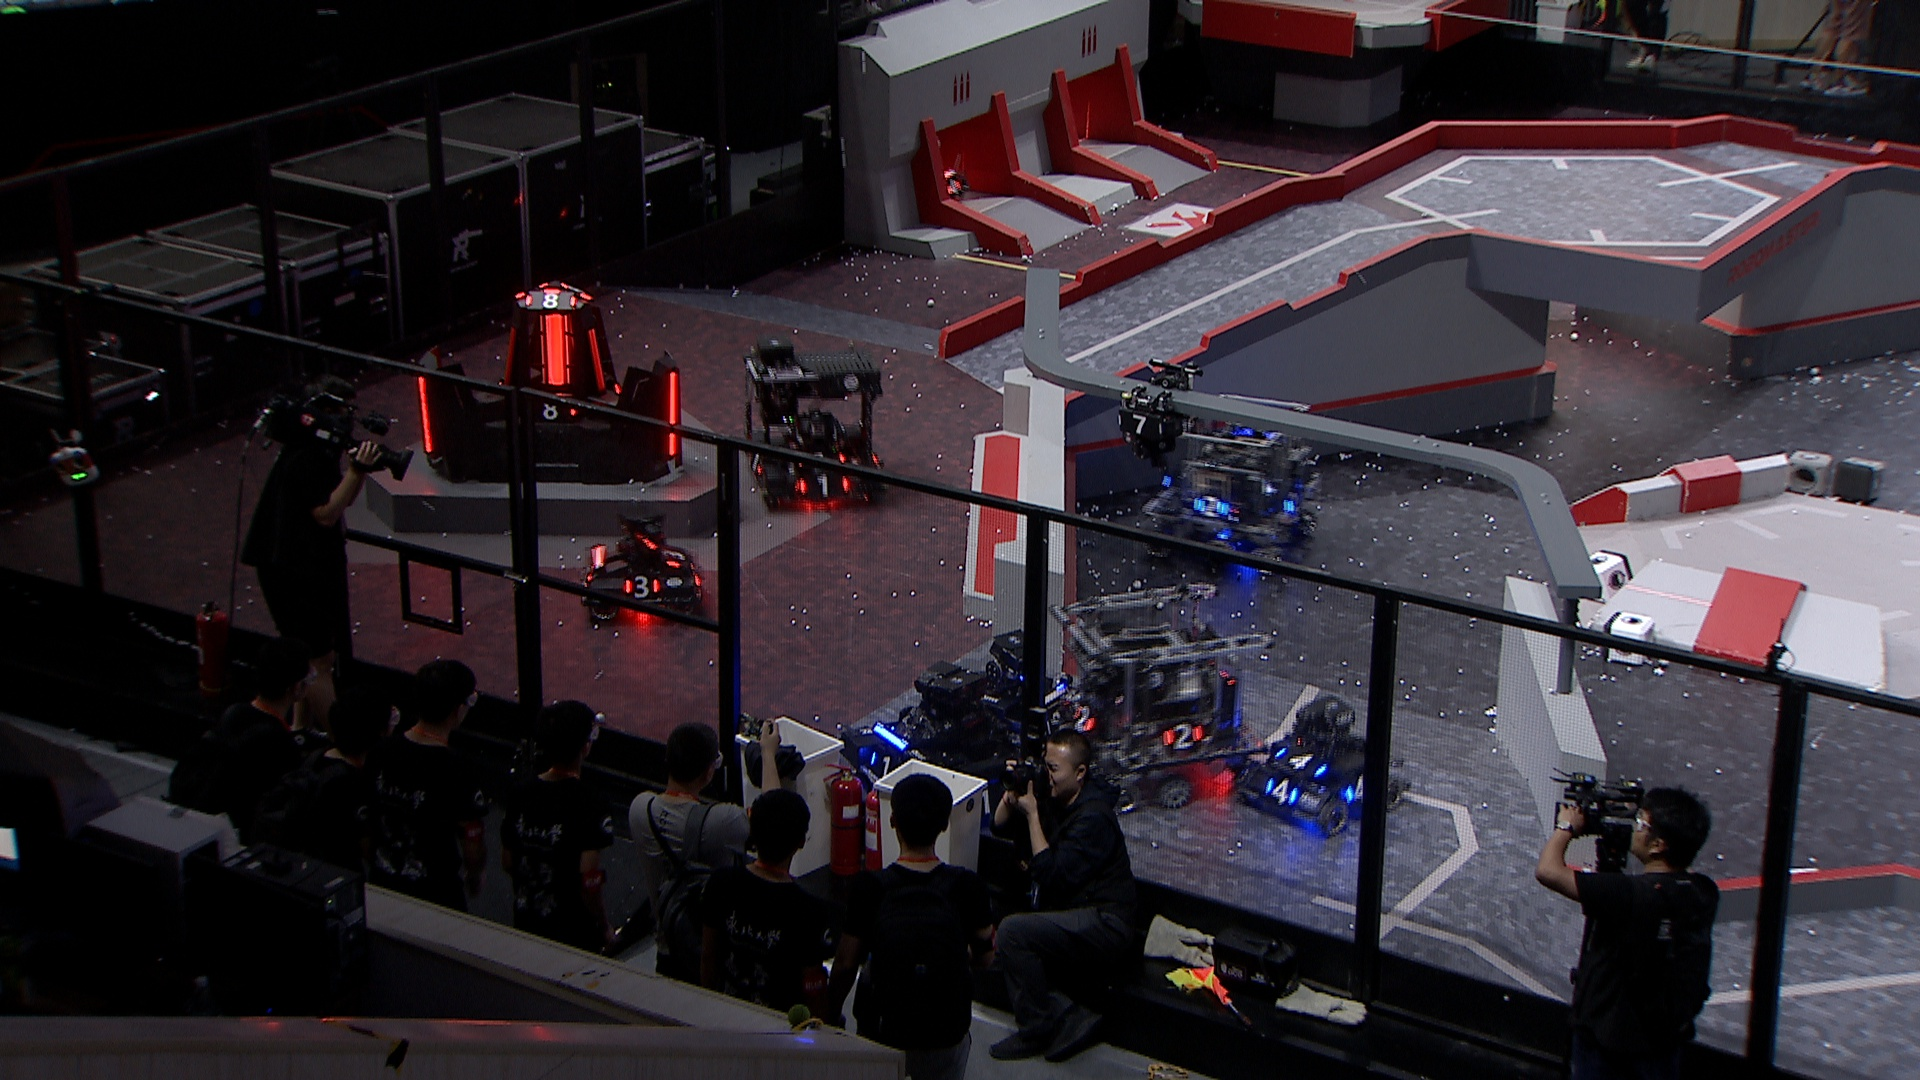armor: (537, 311, 572, 386), (1273, 745, 1329, 778), (415, 373, 438, 456), (584, 328, 609, 392), (795, 472, 852, 498), (665, 371, 680, 458), (1116, 411, 1167, 438), (1262, 774, 1302, 807), (1162, 723, 1204, 752), (524, 290, 578, 311), (793, 448, 847, 469), (975, 785, 1007, 818), (500, 324, 517, 386), (622, 571, 661, 599), (534, 398, 578, 422), (869, 752, 902, 782), (1192, 495, 1230, 520), (657, 541, 688, 570), (1069, 703, 1097, 732), (1342, 773, 1364, 803), (1282, 491, 1305, 517), (746, 448, 765, 476)
base: (413, 278, 684, 484)
car: (1051, 579, 1273, 818), (836, 662, 1048, 843), (1134, 396, 1324, 575), (740, 328, 889, 513), (1233, 690, 1408, 831), (942, 626, 1096, 760), (579, 505, 705, 622)
watcher: (1112, 357, 1204, 473)
